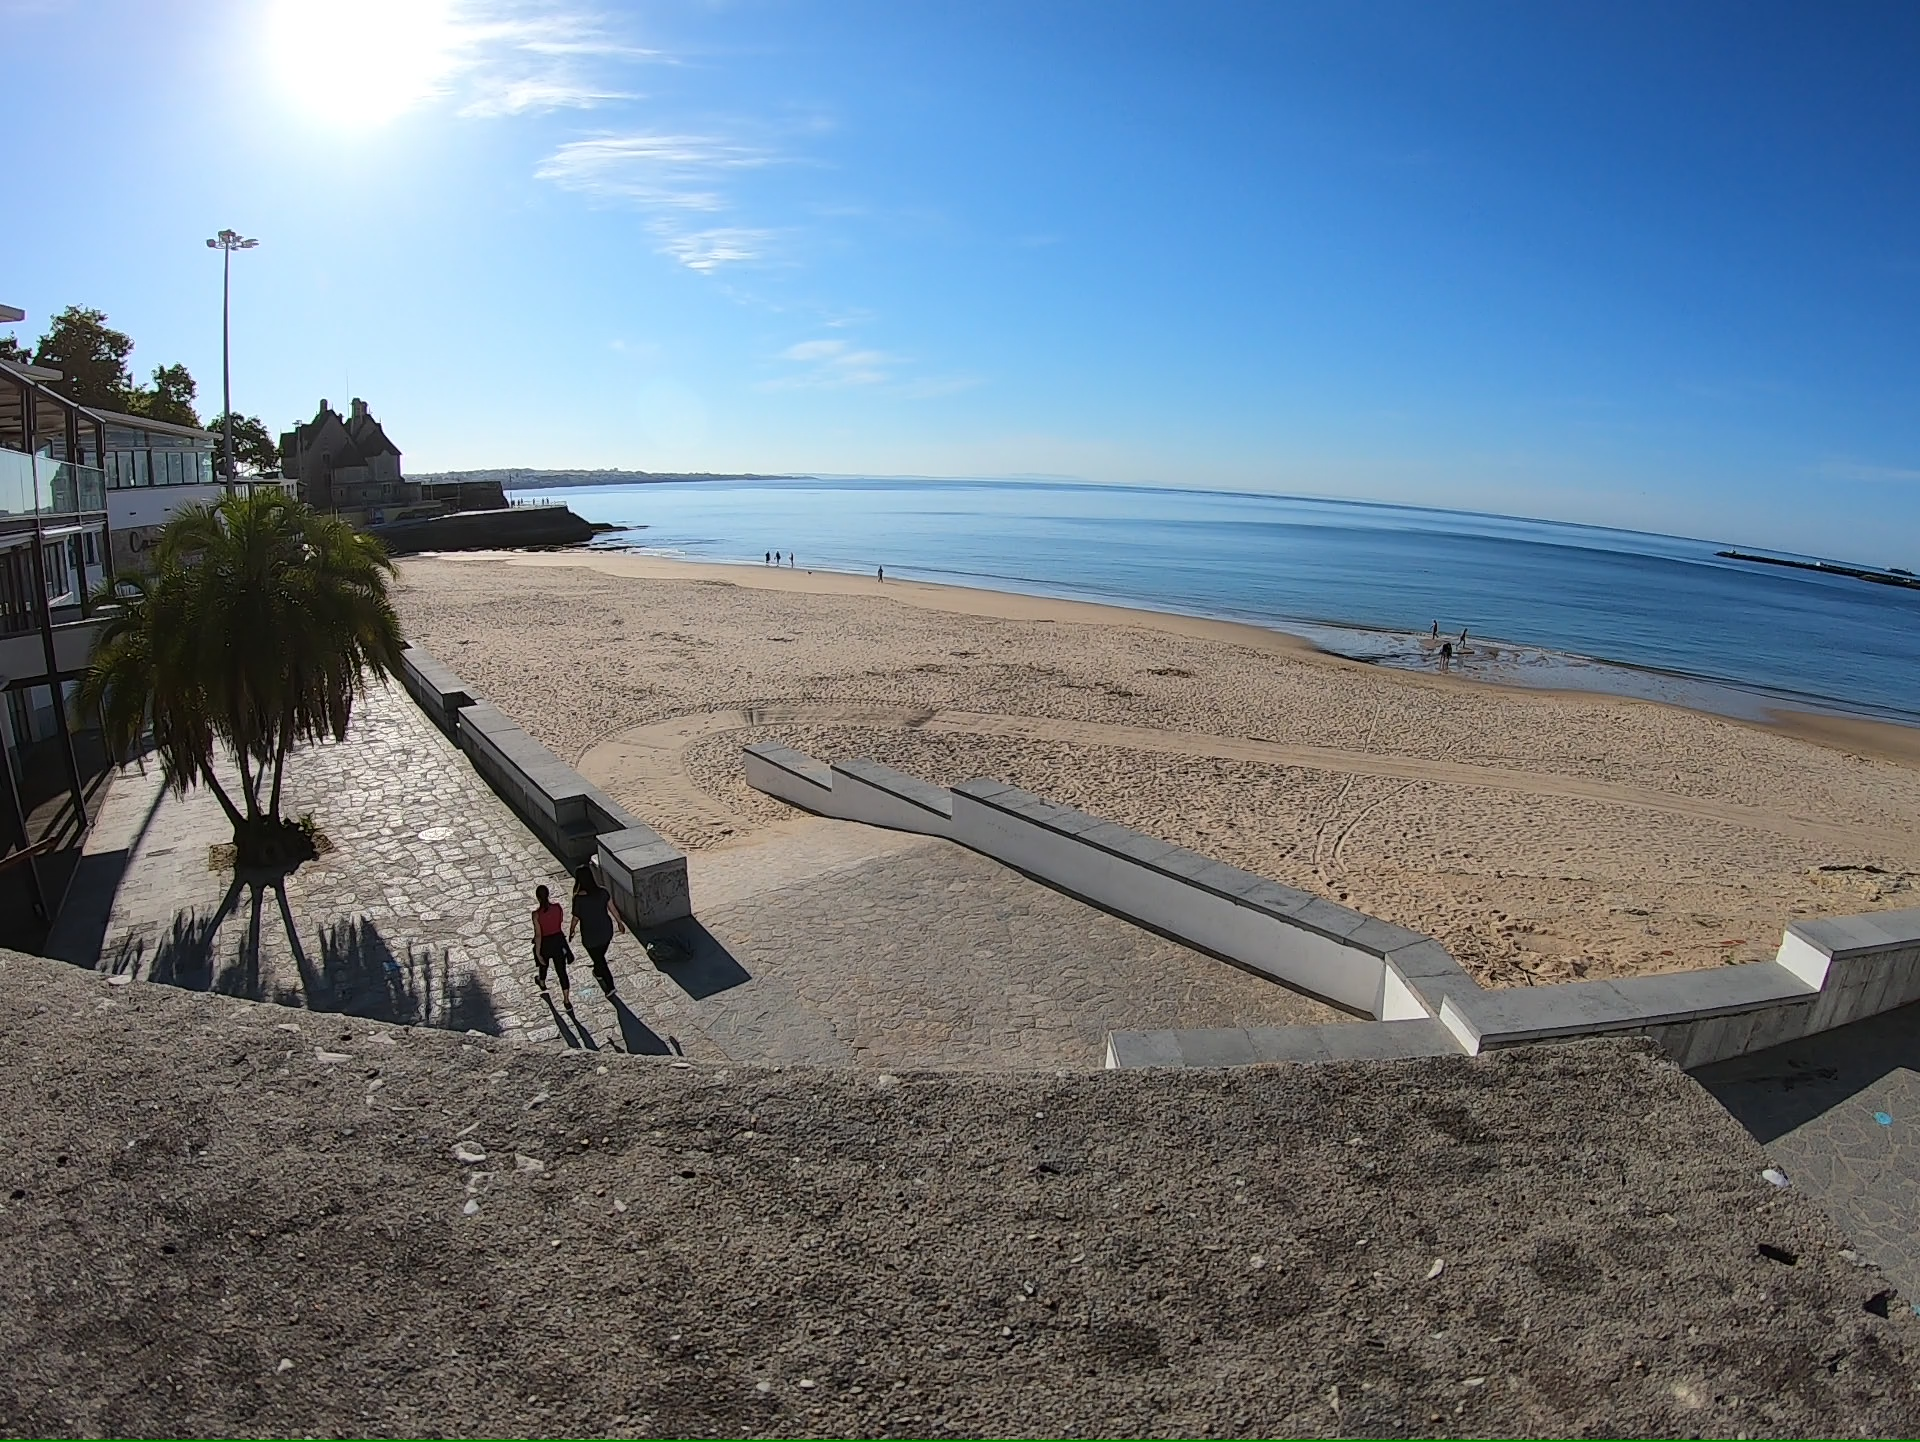person: (567, 867, 625, 995), (529, 882, 568, 1004), (1438, 641, 1453, 668), (1455, 626, 1468, 648), (1429, 619, 1439, 641), (787, 552, 796, 567), (877, 565, 884, 582), (774, 550, 781, 565), (764, 551, 771, 565)
